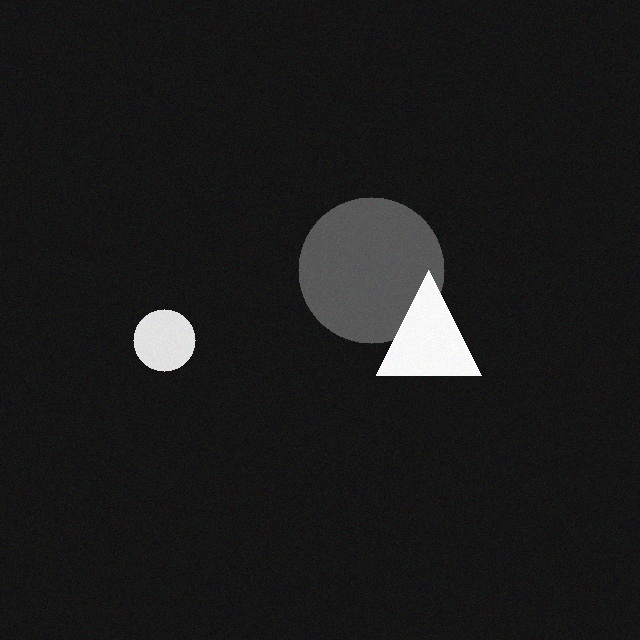circle: (292, 202, 438, 348), (127, 314, 189, 376)
triangle: (370, 275, 475, 380)
